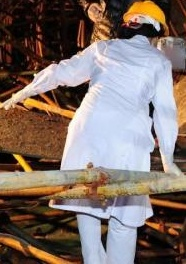boots: (169, 147, 186, 163)
gloves: (1, 83, 38, 111), (162, 162, 184, 178)
hard-hat: (122, 0, 169, 36)
ppe-suit: (155, 0, 186, 158)
vest: (112, 0, 186, 44)
